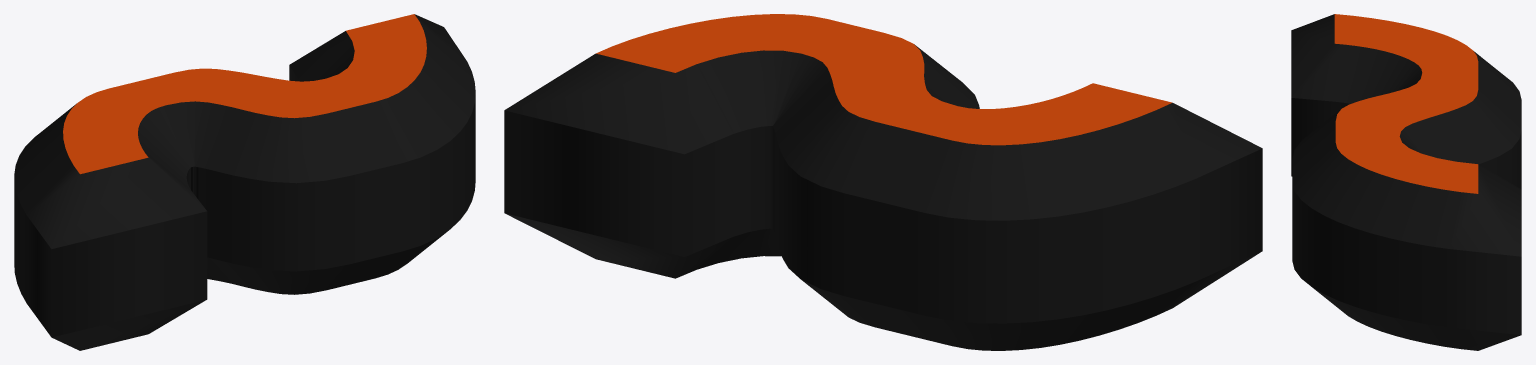
The model's file is Tilde.fbx.
The picture shows the model from 3 angles, left to right: view 1: azimuth 30°, elevation 25°; view 2: azimuth 150°, elevation 25°; view 3: azimuth 270°, elevation 25°; orthographic projection. The views are drawn at different scales.
Visible parts, largest first — view 1: Text; view 2: Text; view 3: Text.
Boxes of the visible parts, x1,y1,x2,y2 form: Text: (14,14,475,350); Text: (504,14,1262,350); Text: (1291,14,1521,350).
Size of the model in its own units: 0.4948 by 0.16 by 0.2125.
